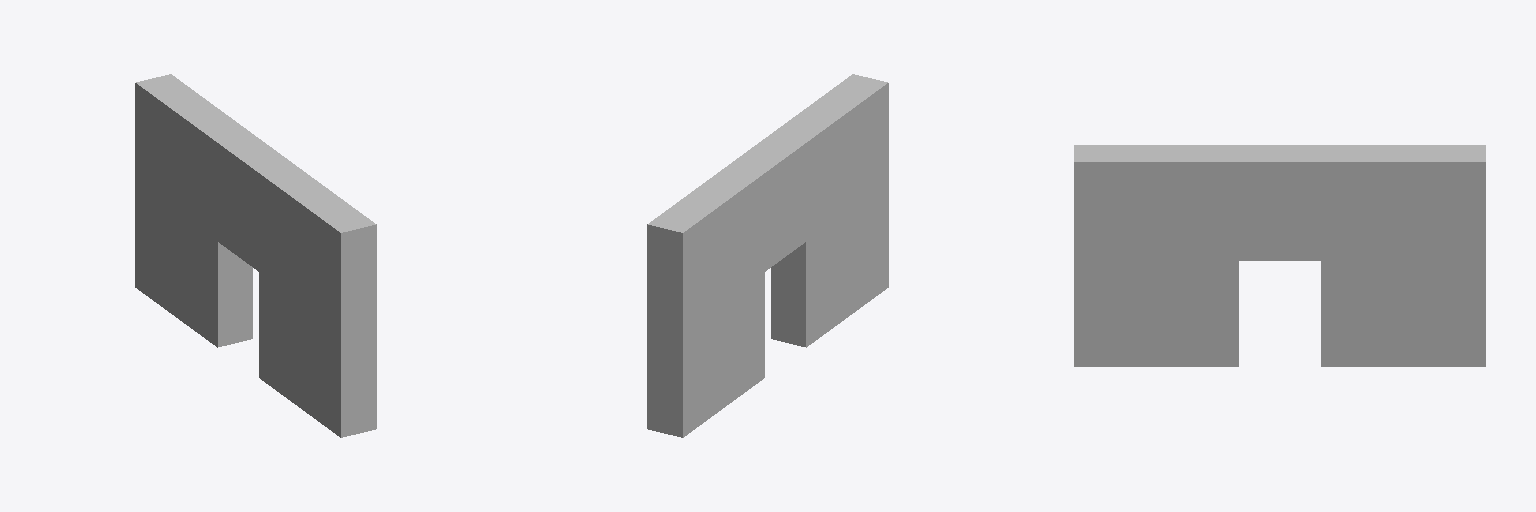
File: Doorwall.obj
3 renders of one model, left to right at view 1: azimuth 30°, elevation 25°; view 2: azimuth 150°, elevation 25°; view 3: azimuth 270°, elevation 25°, orthographic.
Visible parts, largest first — view 1: DoorWall_Cube.009; view 2: DoorWall_Cube.009; view 3: DoorWall_Cube.009.
Boxes of the visible parts, <box> form: DoorWall_Cube.009: <box>135,74,376,437</box>; DoorWall_Cube.009: <box>647,74,888,437</box>; DoorWall_Cube.009: <box>1074,145,1485,366</box>.
Bounding box in the file's own units: 2 × 11 × 20.